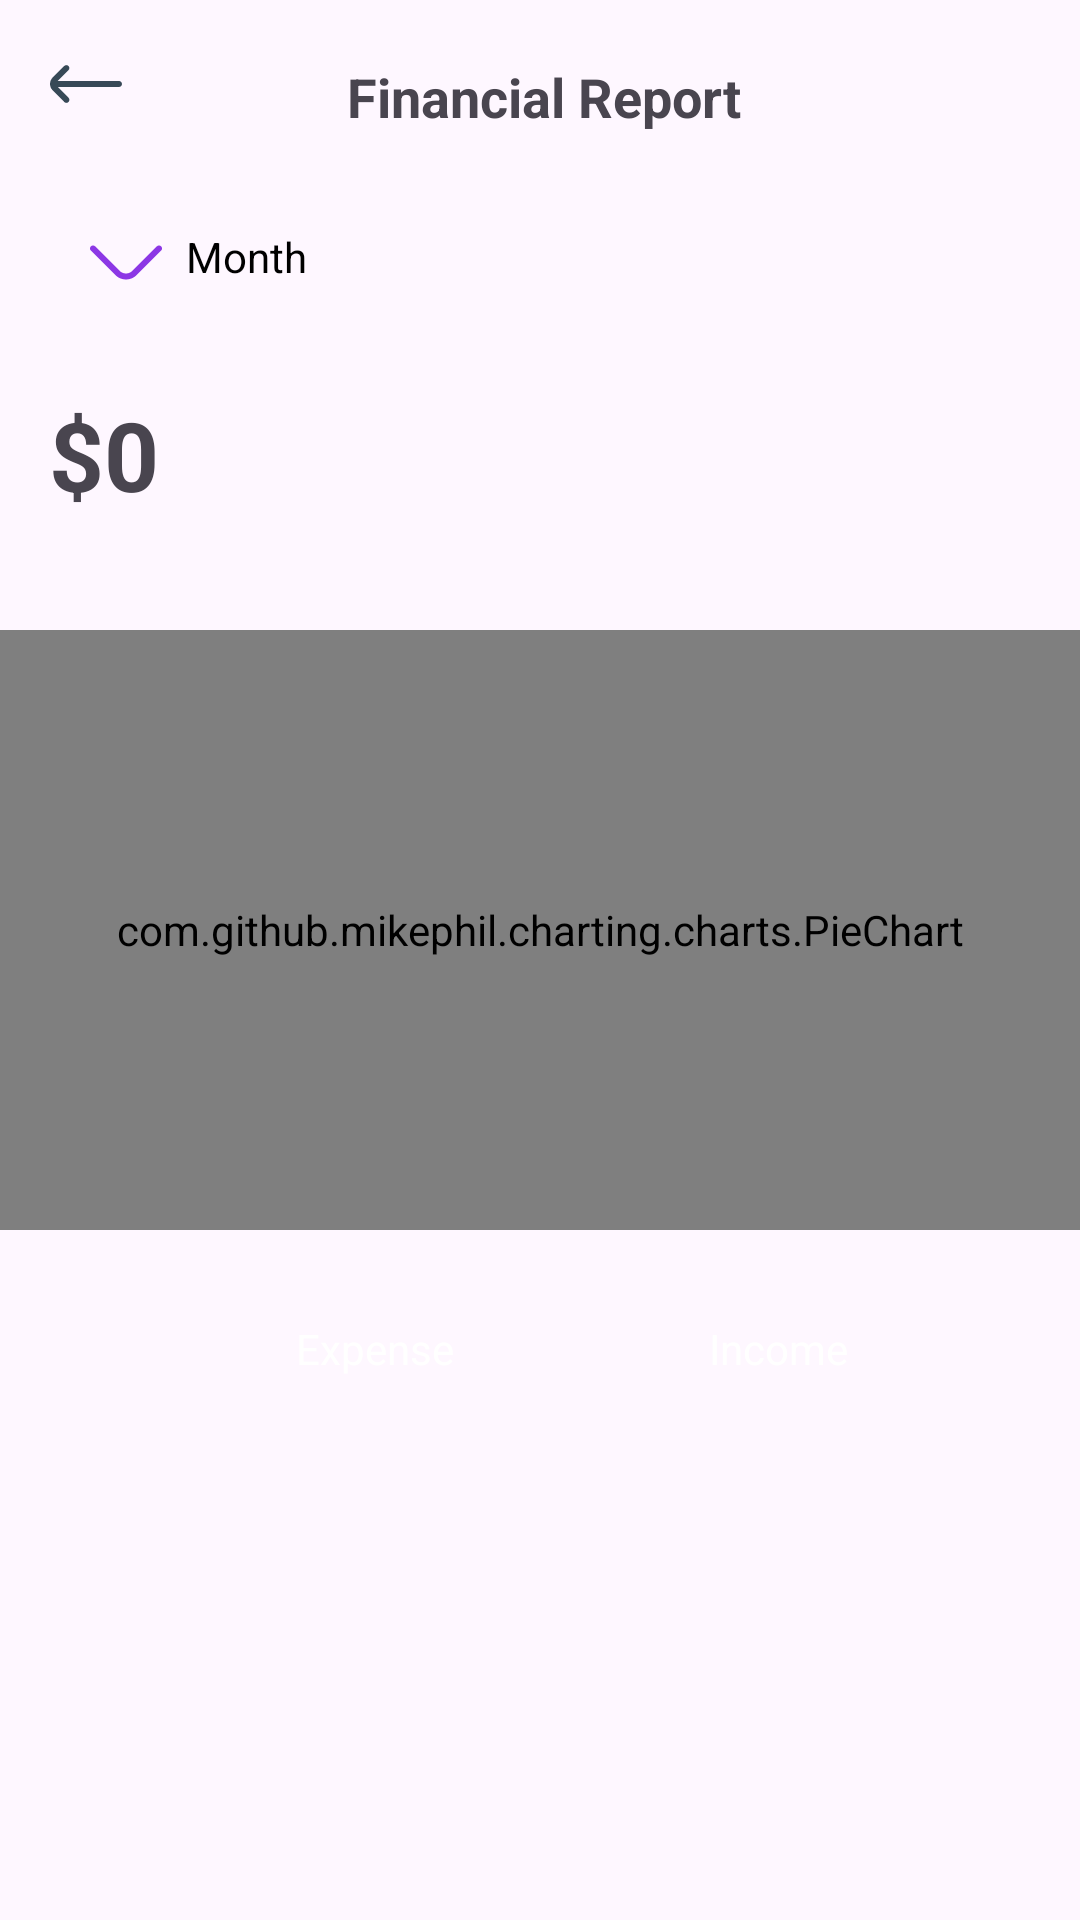

Where to tap for icons on this 1080*1920 app screen, as (x=x, y=y):
arrow left: (x=86, y=84)
